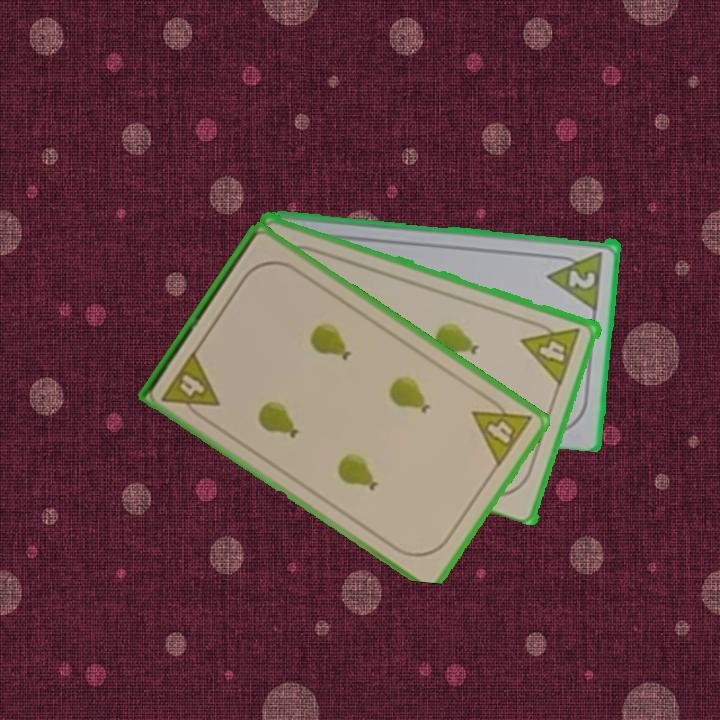2p: (565, 264, 599, 292)
4p: (468, 390, 535, 470), (158, 347, 223, 424), (519, 316, 584, 387)
